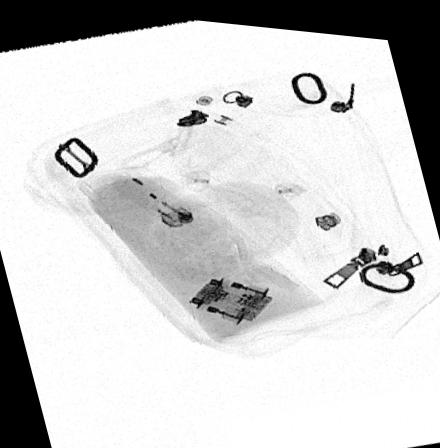Lighter: (112, 167, 194, 223)
